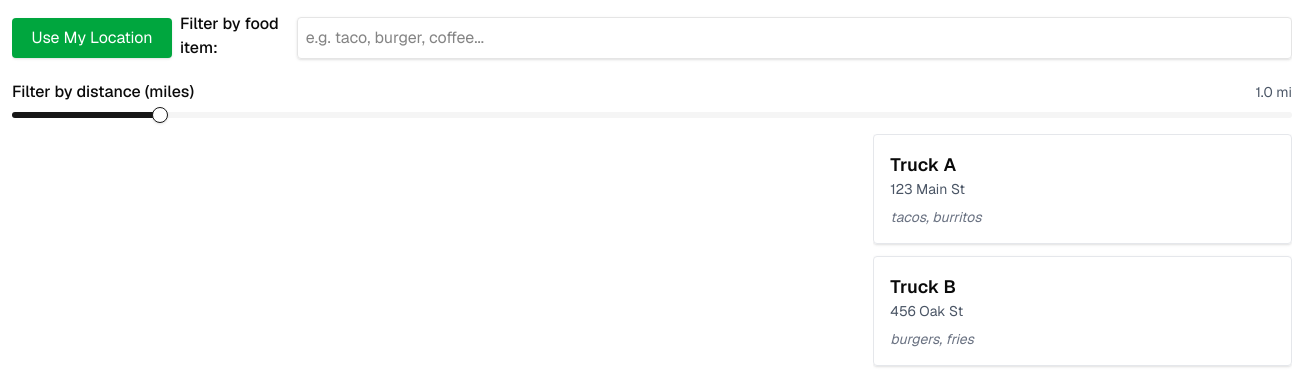
FoodTruckFinder › filters trucks by food item
The width and height of the screenshot is (1304, 384).
Type "taco" into the field with placeholder "e.g. taco, burger, coffee...".
click(794, 38); type("taco")  # box left=297, top=17, right=1292, bottom=59
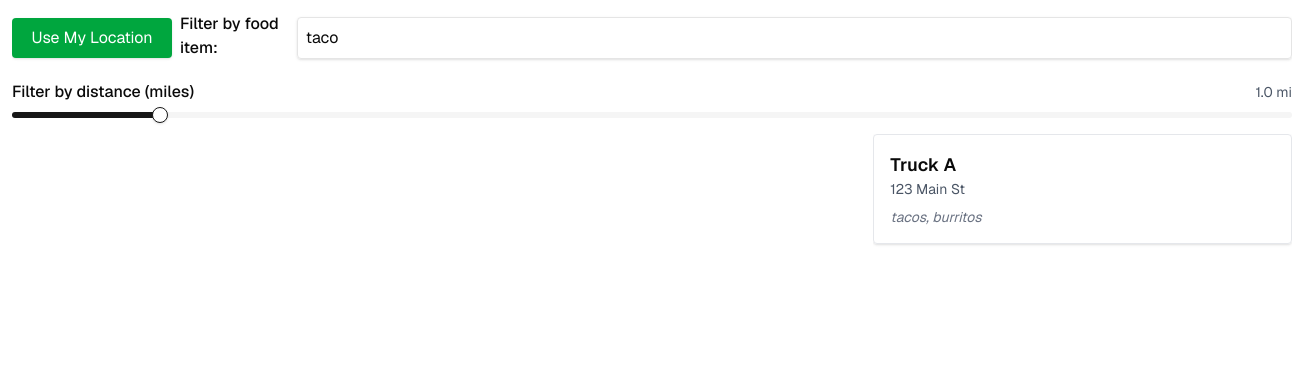
Check: the heading "Truck A" is shown, box left=890, top=153, right=956, bottom=176
Check: the heading "Truck B" is gone
